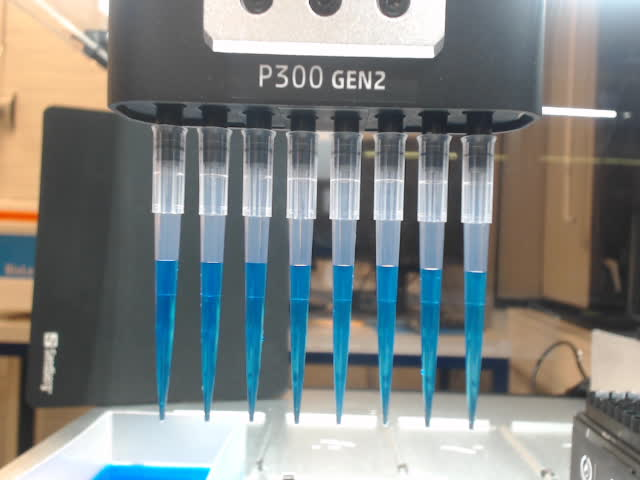Liquid: (151, 254, 183, 427), (461, 268, 493, 431), (241, 257, 270, 427), (373, 260, 402, 430), (329, 260, 358, 429), (416, 264, 445, 431), (286, 259, 314, 430), (197, 256, 225, 424)
Tip: (414, 132, 456, 431), (194, 125, 236, 423), (324, 129, 366, 427), (147, 121, 188, 426), (460, 133, 501, 432), (370, 129, 410, 429), (239, 125, 278, 426), (282, 127, 319, 426)
